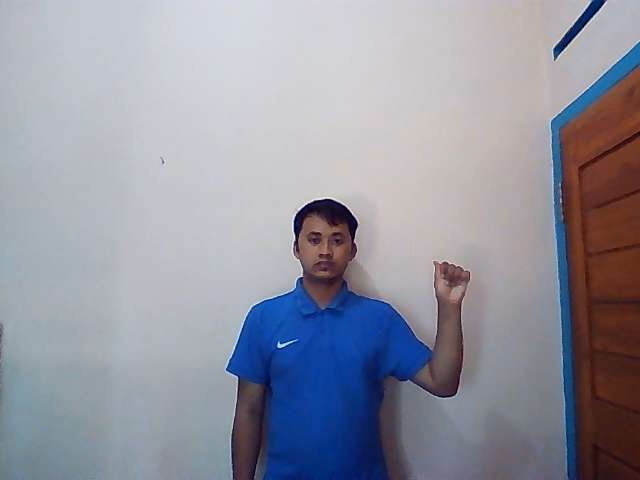A: (431, 259, 472, 307)
